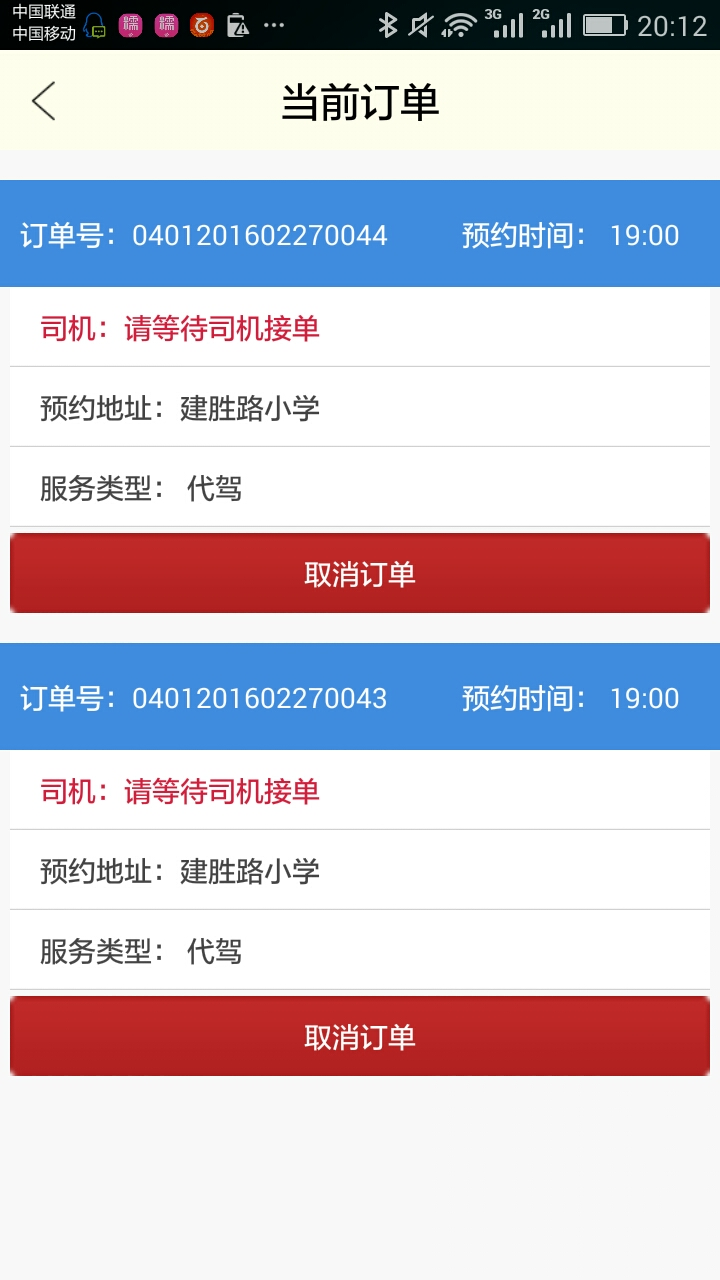button: (8, 525, 716, 622)
textview: (1, 173, 720, 529)
